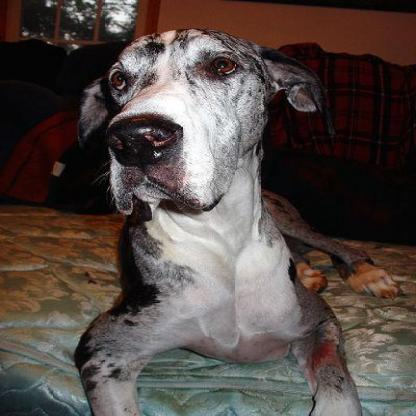Great_Dane: (73, 28, 363, 414)
